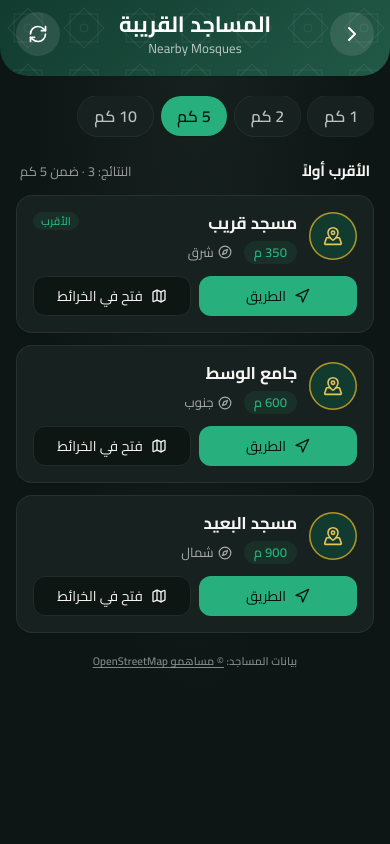
Test case: Nearby Mosques — maps app on the iPhone (Apple Maps or Google Maps) › the chooser says when Google Maps isn't installed (it will open in the browser)
Step 1. Click the button with test id "mosque-directions" → (278, 296), box [199, 276, 357, 316]
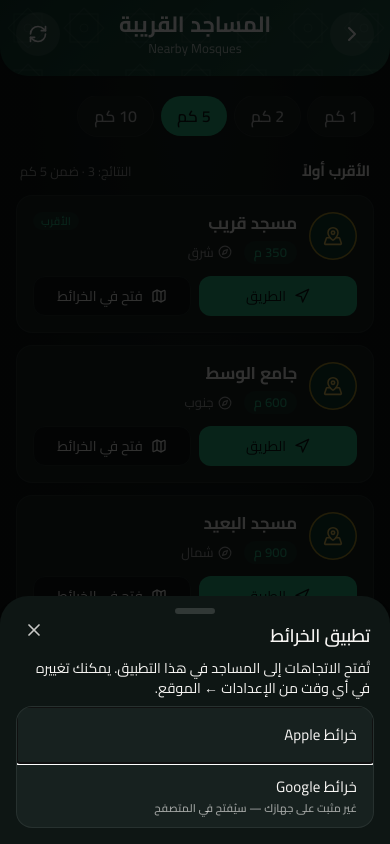
Expected: the text "غير مثبت على جهازك — سيُفتح في المتصفح" is shown, [154, 798, 357, 818]
